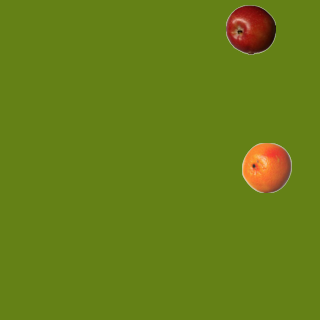Apple Braeburn: (225, 4, 275, 54)
Grapefruit Pink: (241, 142, 291, 192)
